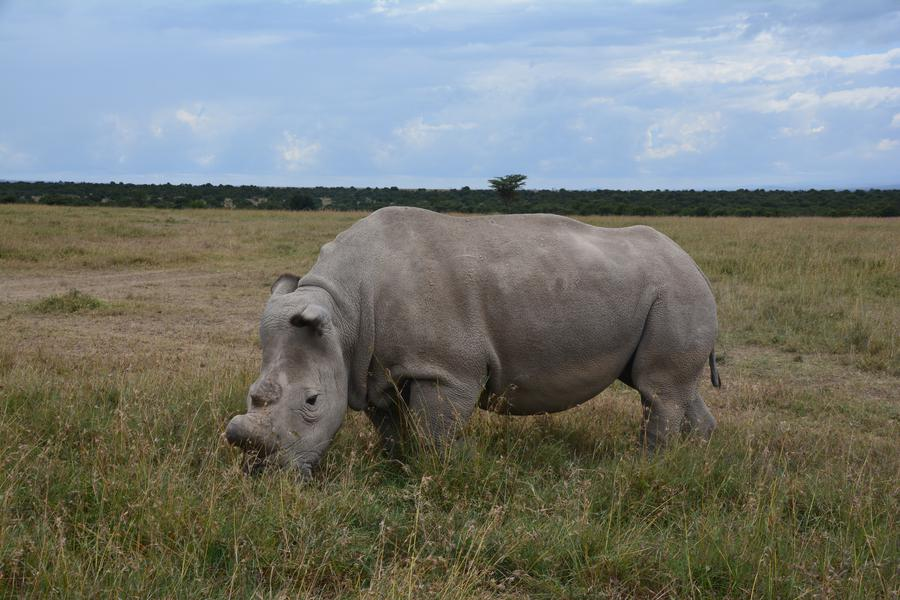rhino: (226, 212, 713, 462)
